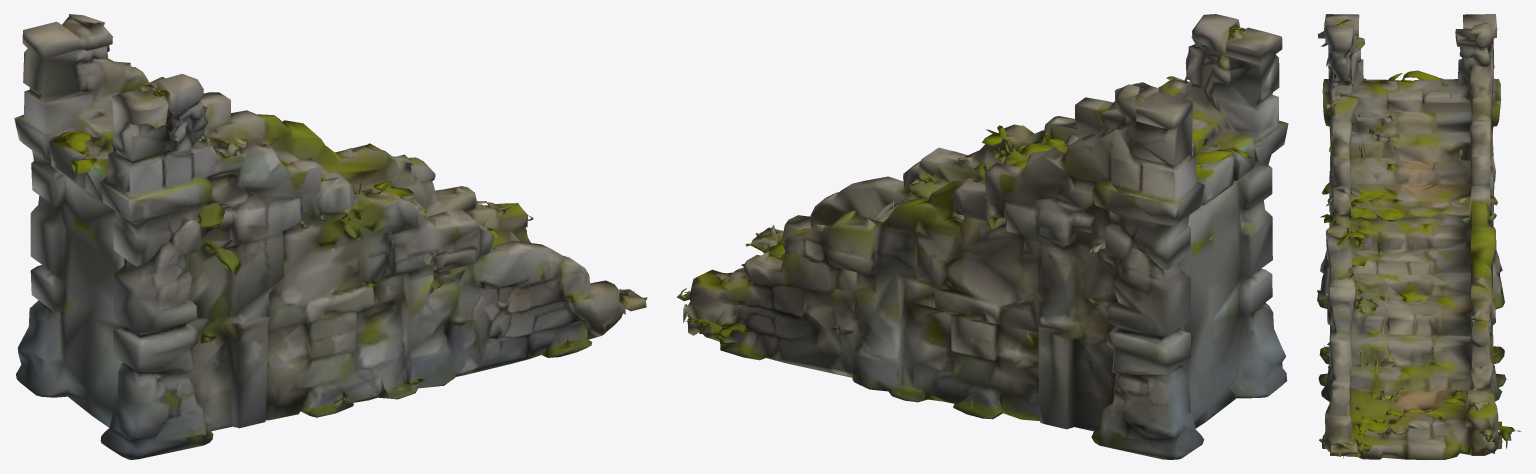
File: ruin_stairway.glb
The picture shows the model from 3 angles, left to right: view 1: azimuth 30°, elevation 25°; view 2: azimuth 150°, elevation 25°; view 3: azimuth 270°, elevation 25°; orthographic projection. The views are drawn at different scales.
Visible parts, largest first — view 1: tripo_node_34e3018b-aaa3-4a94-840e-e3984c3655d0; view 2: tripo_node_34e3018b-aaa3-4a94-840e-e3984c3655d0; view 3: tripo_node_34e3018b-aaa3-4a94-840e-e3984c3655d0.
Boxes of the visible parts, box(x1,y1,x2,y2) form: tripo_node_34e3018b-aaa3-4a94-840e-e3984c3655d0: box(14, 14, 647, 459); tripo_node_34e3018b-aaa3-4a94-840e-e3984c3655d0: box(677, 14, 1288, 459); tripo_node_34e3018b-aaa3-4a94-840e-e3984c3655d0: box(1317, 14, 1521, 459).
Bounding box in the file's own units: 0.9995 × 0.6453 × 0.429.
Materials: 1 (1 with a texture image).
